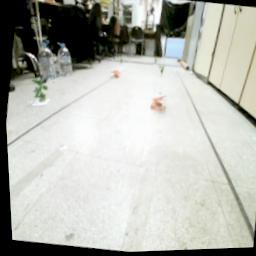wild: (29, 76, 50, 104), (147, 93, 169, 114), (156, 64, 166, 78), (110, 69, 121, 80)
